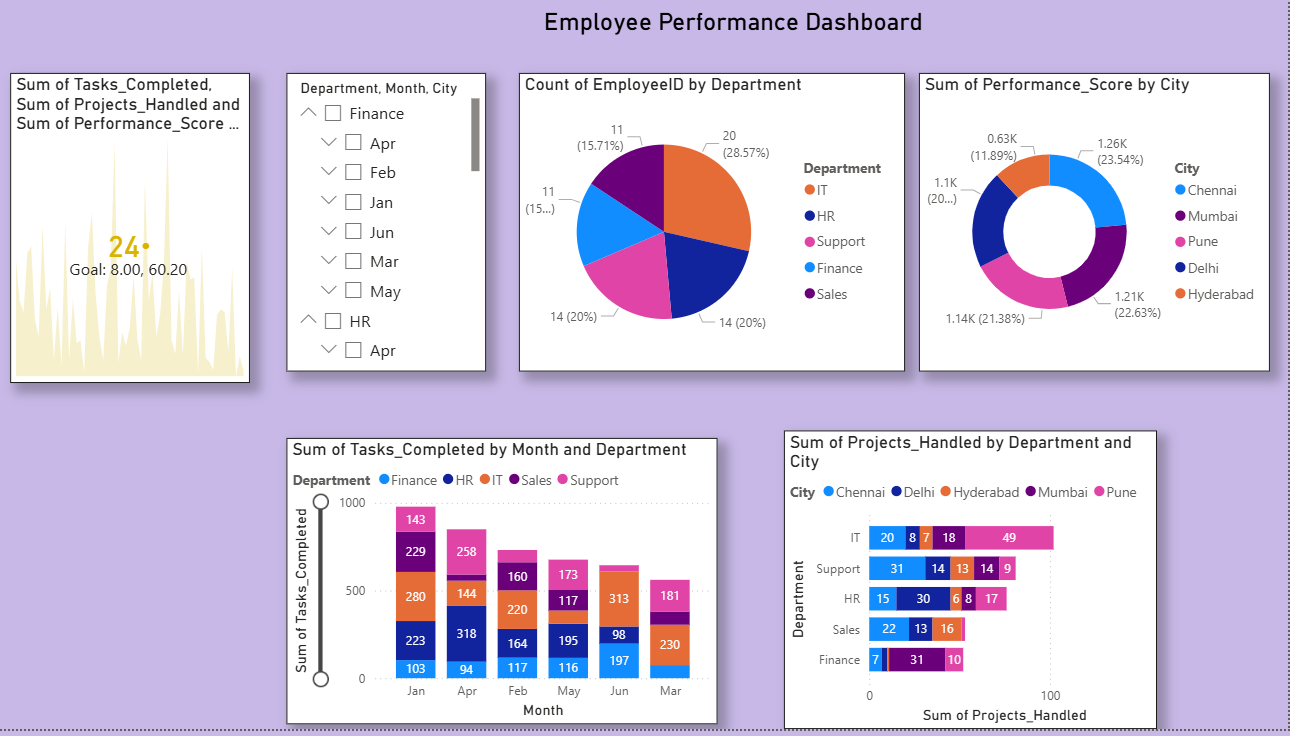

The dashboard page shown, as its layout file describes it:
{"tool":"powerbi","page":{"name":"Page 1","canvas":[1280,720],"ordinal":0},"visuals":[{"type":"columnChart","fields":{"Category":["employee_performance (2).Month"],"Series":["employee_info.Department"],"Y":["Sum(employee_performance (2).Tasks_Completed)"]},"box":[300.5,435,421.3,279.9],"z":0},{"type":"barChart","fields":{"Category":["employee_info.Department"],"Y":["Sum(employee_performance (2).Projects_Handled)"],"Series":["employee_info.City"]},"box":[787.7,428.1,365,292.3],"z":1000},{"type":"pieChart","fields":{"Category":["employee_info.Department"],"Y":["CountNonNull(employee_performance (2).EmployeeID)"]},"box":[528.3,78.2,377.4,292.3],"z":2000},{"type":"donutChart","fields":{"Y":["Sum(employee_performance (2).Performance_Score)"],"Category":["employee_info.City"]},"box":[919.4,78.2,343.1,292.3],"z":3000},{"type":"kpi","fields":{"Indicator":["Sum(employee_performance (2).Tasks_Completed)"],"Goal":["Sum(employee_performance (2).Projects_Handled)","Sum(employee_performance (2).Performance_Score)"],"TrendLine":["employee_performance (2).Attendance_%"]},"box":[30.2,78.2,234.6,303.3],"z":4000},{"type":"slicer","fields":{"Values":["employee_info.Department","employee_performance (2).Month","employee_info.City"]},"box":[300.5,78.2,194.9,292.3],"z":5000},{"type":"textbox","title":"Employee Performance Dashboard","box":[547.5,13.7,387,30.2],"z":6000}]}

Visuals, with their boxes in screenshot pixels (x1, y1, x2, y2), scaled from the page's 1280x720 canvas onto the 1290x736 screenshot:
columnChart - employee_performance (2).Month x employee_info.Department: Rect(303, 445, 727, 731)
barChart - employee_info.Department x Sum(employee_performance (2).Projects_Handled): Rect(794, 438, 1162, 735)
pieChart - employee_info.Department x CountNonNull(employee_performance (2).EmployeeID): Rect(532, 80, 913, 379)
donutChart - Sum(employee_performance (2).Performance_Score) x employee_info.City: Rect(927, 80, 1272, 379)
kpi - Sum(employee_performance (2).Tasks_Completed) x Sum(employee_performance (2).Projects_Handled): Rect(30, 80, 267, 390)
slicer - employee_info.Department x employee_performance (2).Month: Rect(303, 80, 499, 379)
"Employee Performance Dashboard" textbox: Rect(552, 14, 942, 45)
